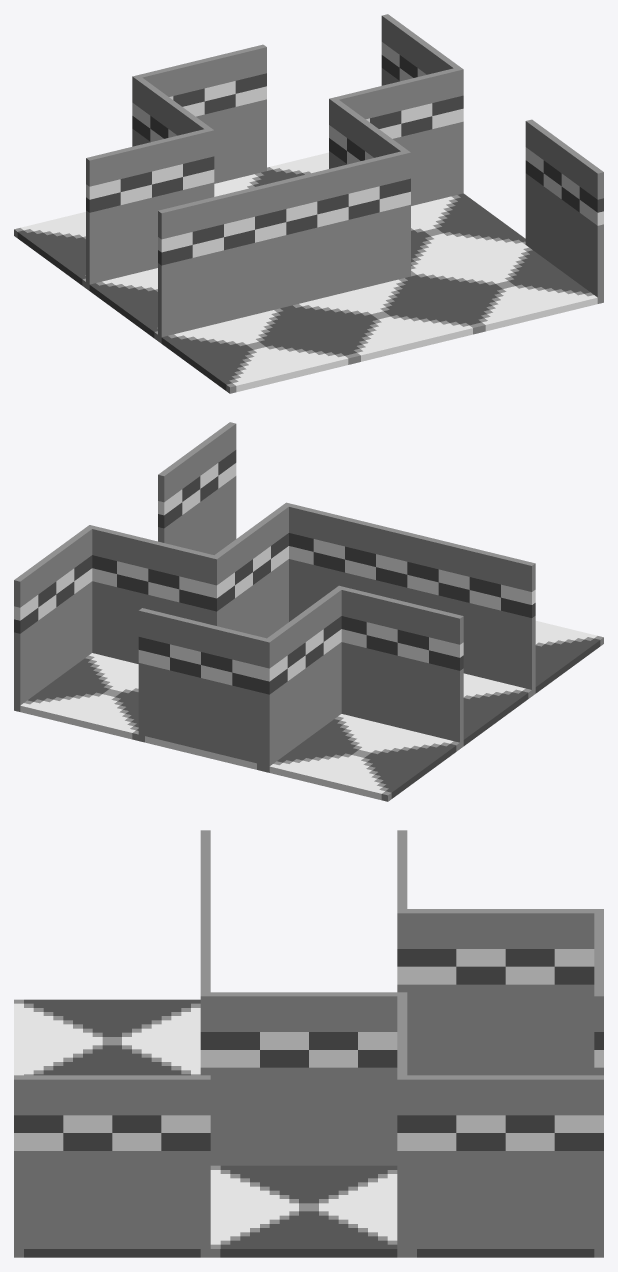
File: level_maze-25.obj
3 views of the same model, one above another, from view 1: azimuth 30°, elevation 25°; view 2: azimuth 150°, elevation 25°; view 3: azimuth 270°, elevation 25° (orthographic). The views are drawn at different scales.
Visible parts, largest first — view 1: level_maze-25; view 2: level_maze-25; view 3: level_maze-25.
Part boxes in pixels (x1,y1,x2,y2): level_maze-25: (14,14,603,393); level_maze-25: (14,422,603,801); level_maze-25: (14,830,603,1257).
Size of the model in its own units: 60 by 20 by 60.
1 material, 1 textured.
